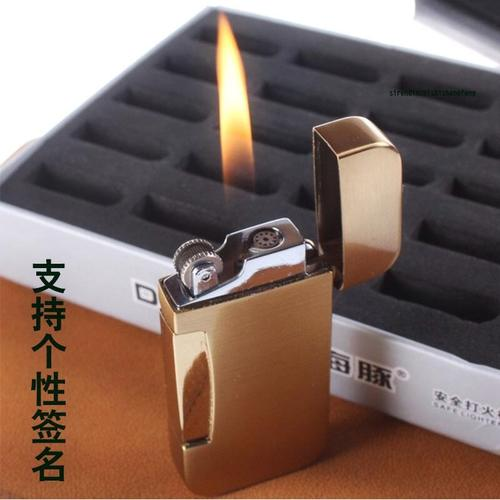fire: (198, 6, 288, 247)
